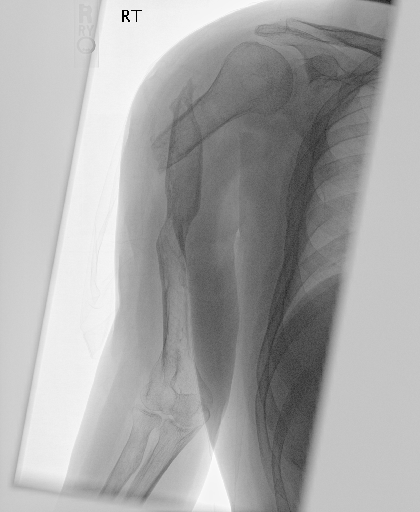fracture: (157, 70, 214, 191)
